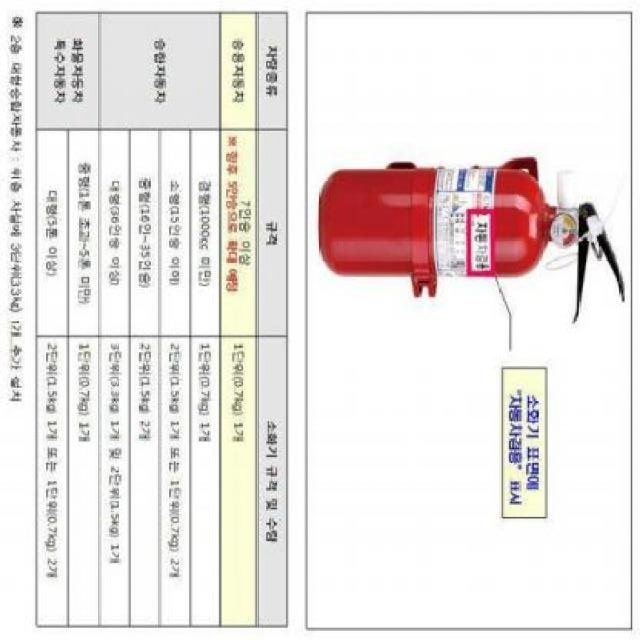fire extinguisher: (318, 155, 625, 323)
